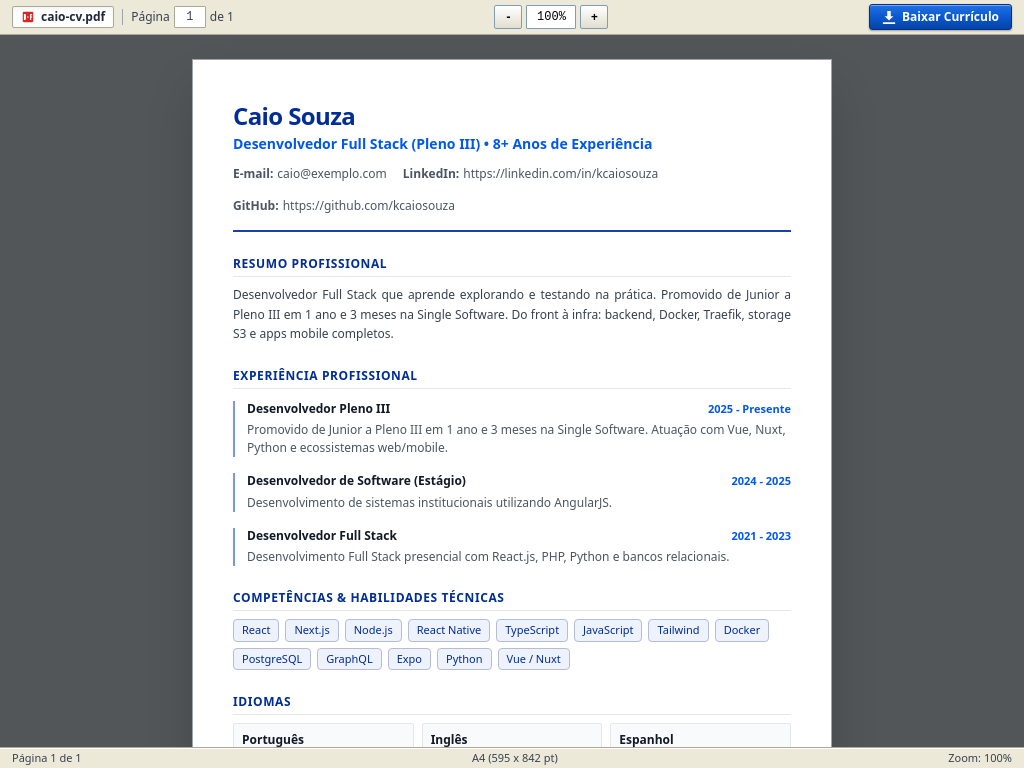
it: Windows XP Portfolio Applications › PdfViewerApp › handles zoom in, zoom out, and reset
Expected: the button with test id "btn-zoom-reset" reads "100%", [526,5,576,29]
What coordinates should you click on to do the following:
click the button with test id "btn-zoom-in"
I would click on:
 (594, 17)
Its box is [580,5,608,29].
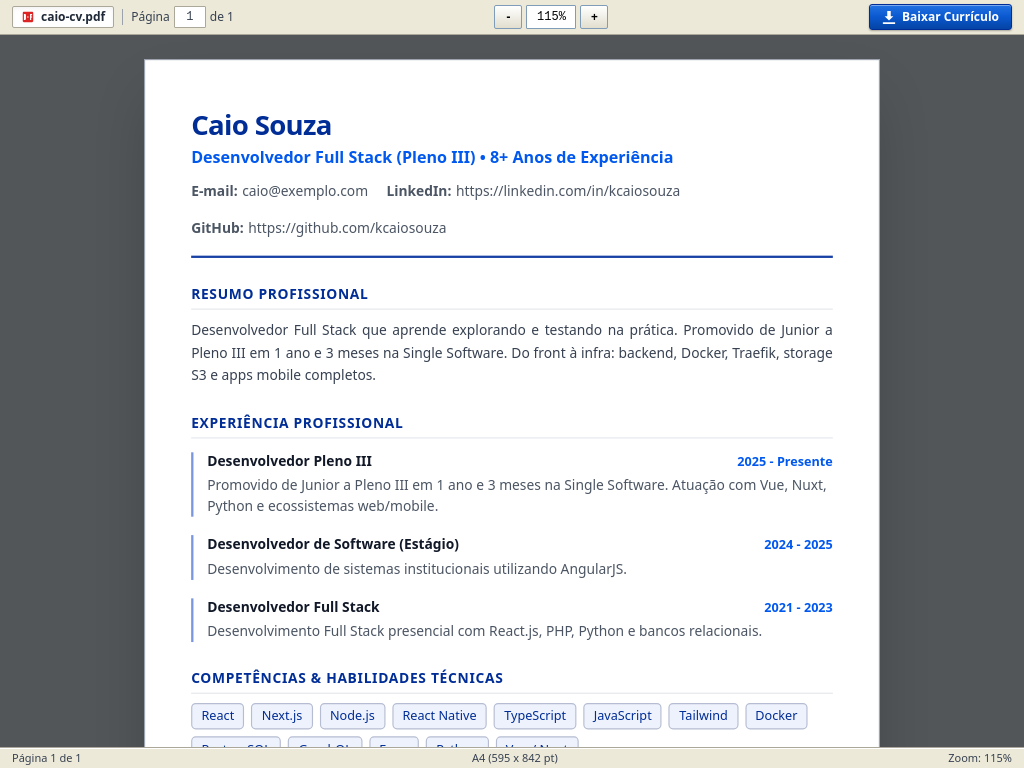
Result: the button with test id "btn-zoom-reset" reads "115%" at [526,5,576,29]
What coordinates should you click on to do the following:
click the button with test id "btn-zoom-out"
I would click on:
 (508, 17)
Its box is [494,5,522,29].
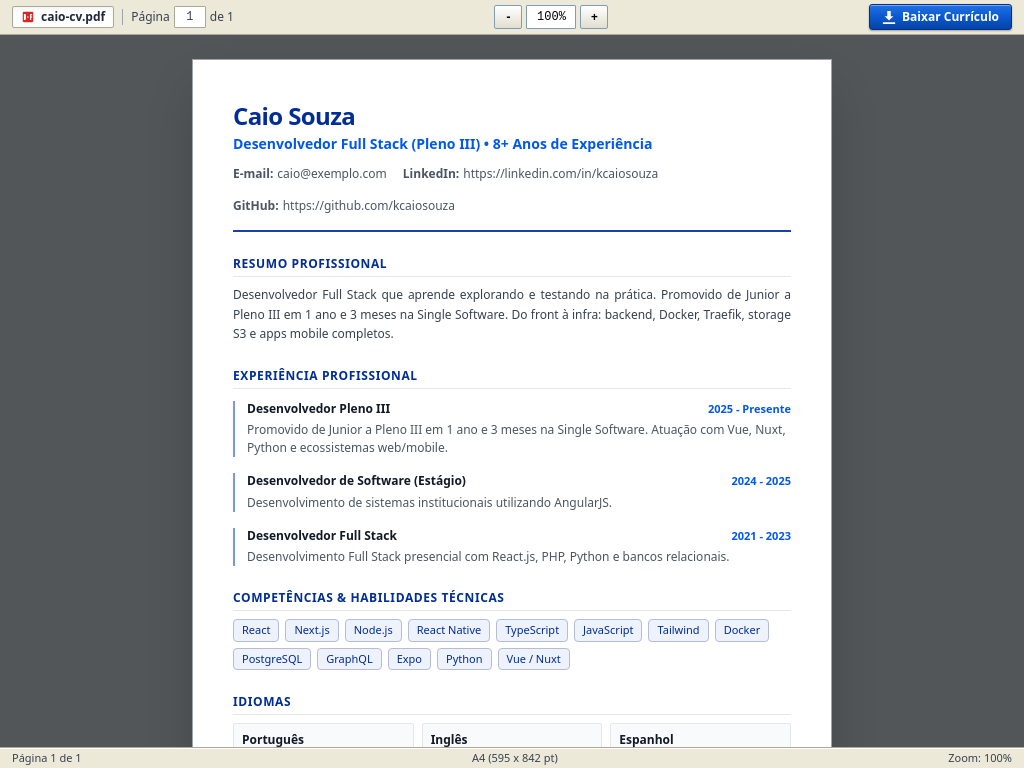
What coordinates should you click on to do the following:
click the button with test id "btn-zoom-out"
I would click on:
 (508, 17)
Its box is [494,5,522,29].
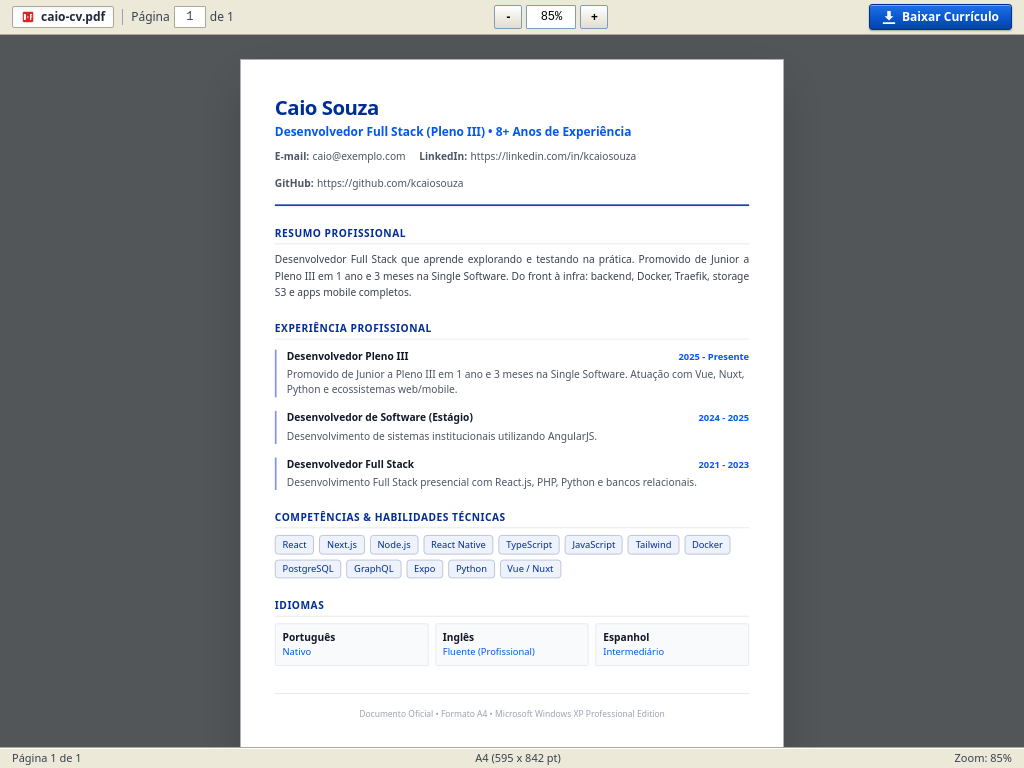
Result: the button with test id "btn-zoom-reset" reads "85%"
What coordinates should you click on to do the following:
click the button with test id "btn-zoom-reset"
I would click on:
 (552, 17)
Its box is [526,5,576,29].
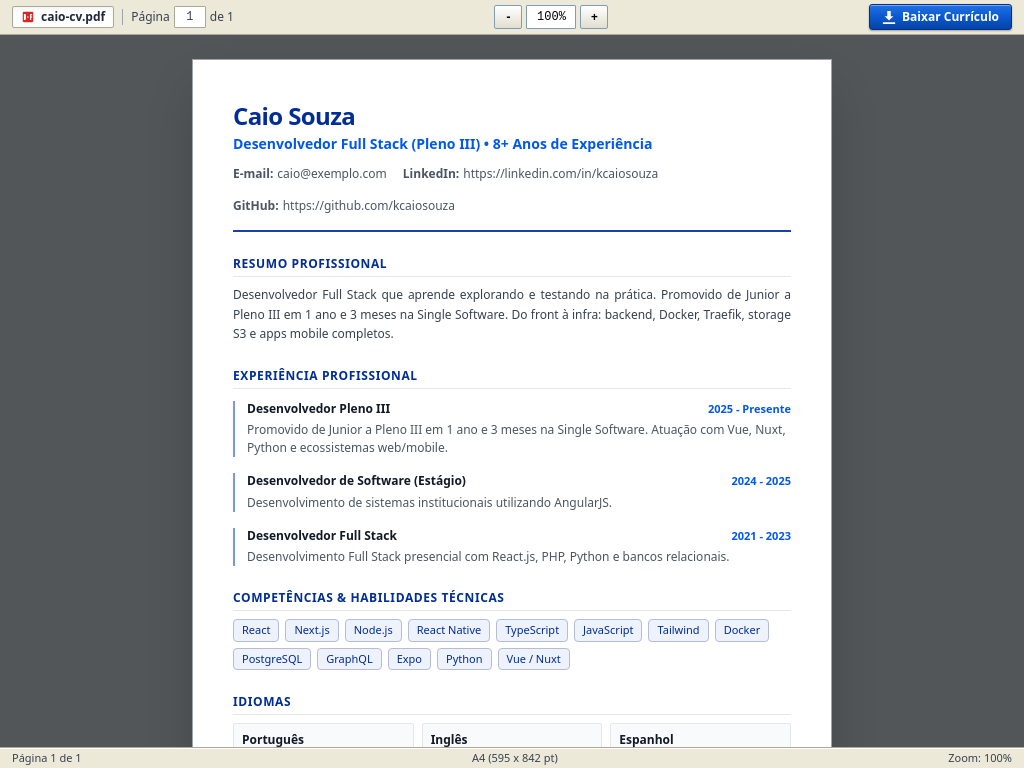
Result: the button with test id "btn-zoom-reset" reads "100%" at [526,5,576,29]
